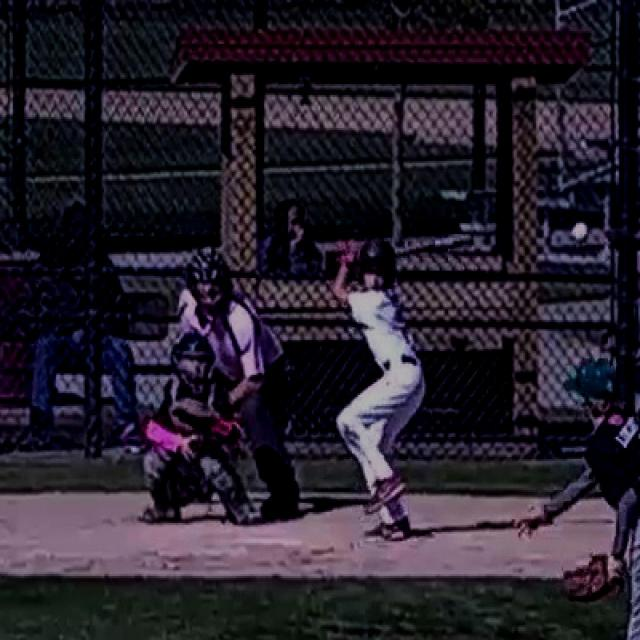baseball: (573, 222, 588, 239)
